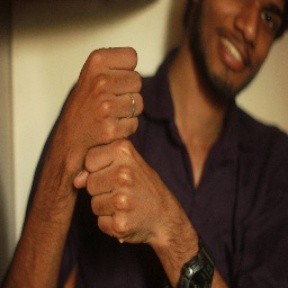G: (56, 40, 166, 245)
